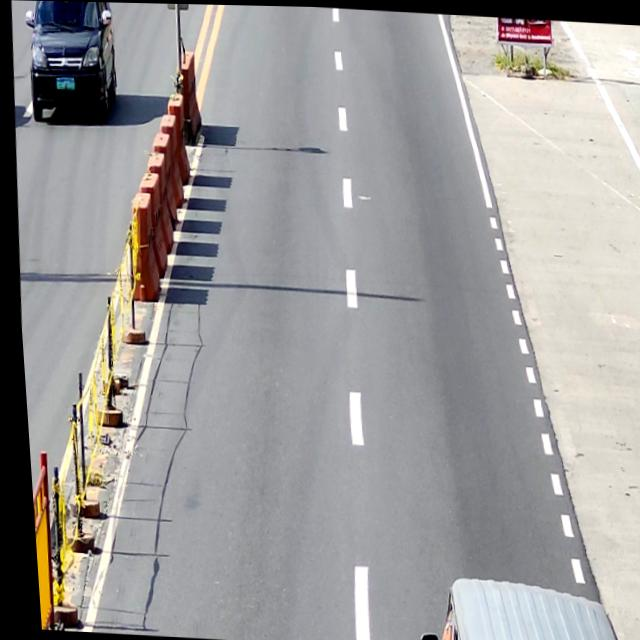Car: (19, 0, 121, 122)
License-Plate: (53, 77, 74, 91)
